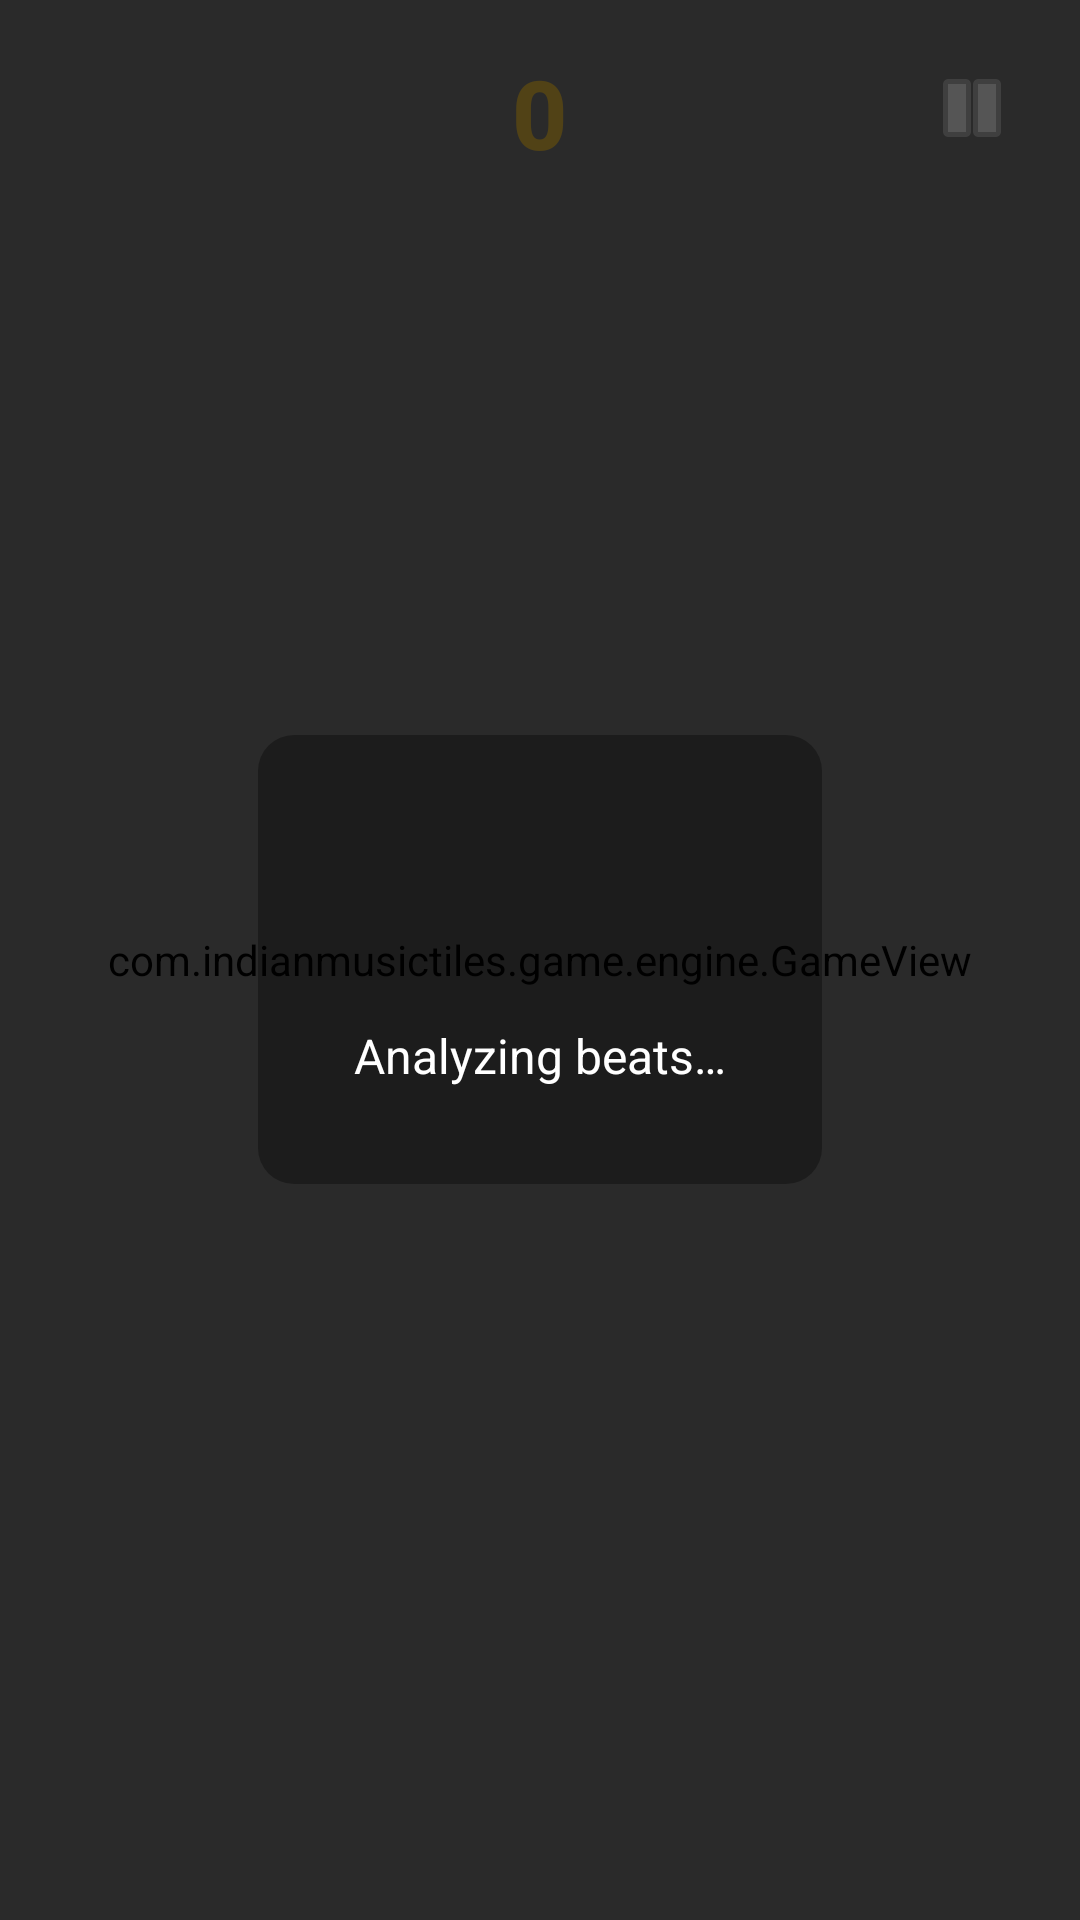

Icon bounding boxes for this 1080×1920 phone screenshot, format BBox(x1, y1, x2, y2):
Pause: BBox(948, 84, 996, 132)
